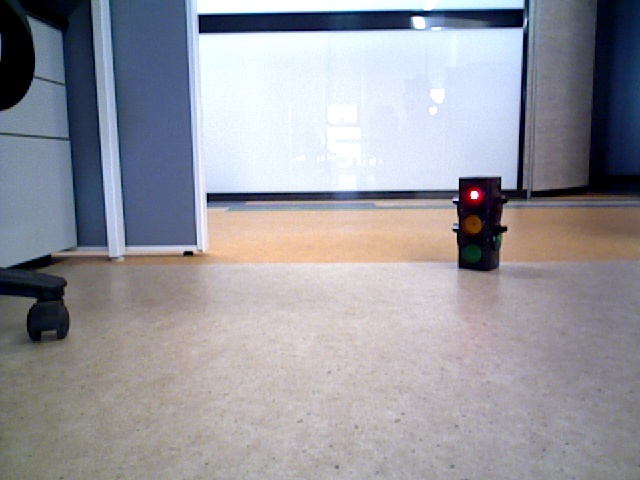red: (459, 180, 492, 269)
